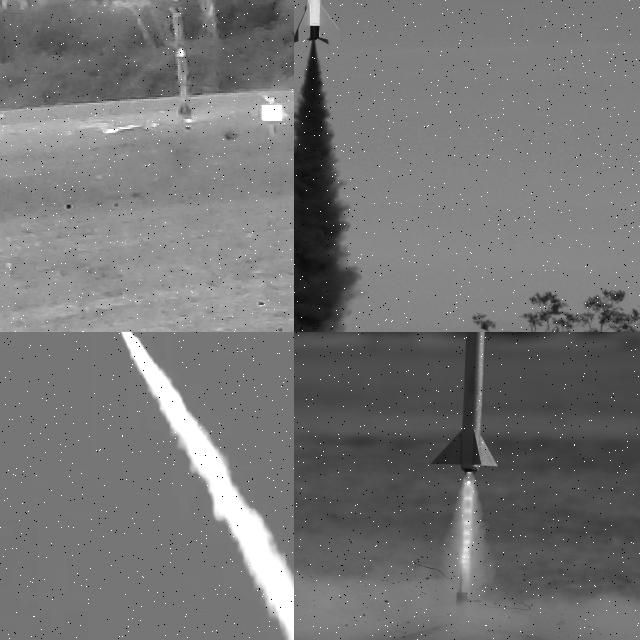Rocket: (431, 332, 501, 475), (172, 8, 192, 118)
